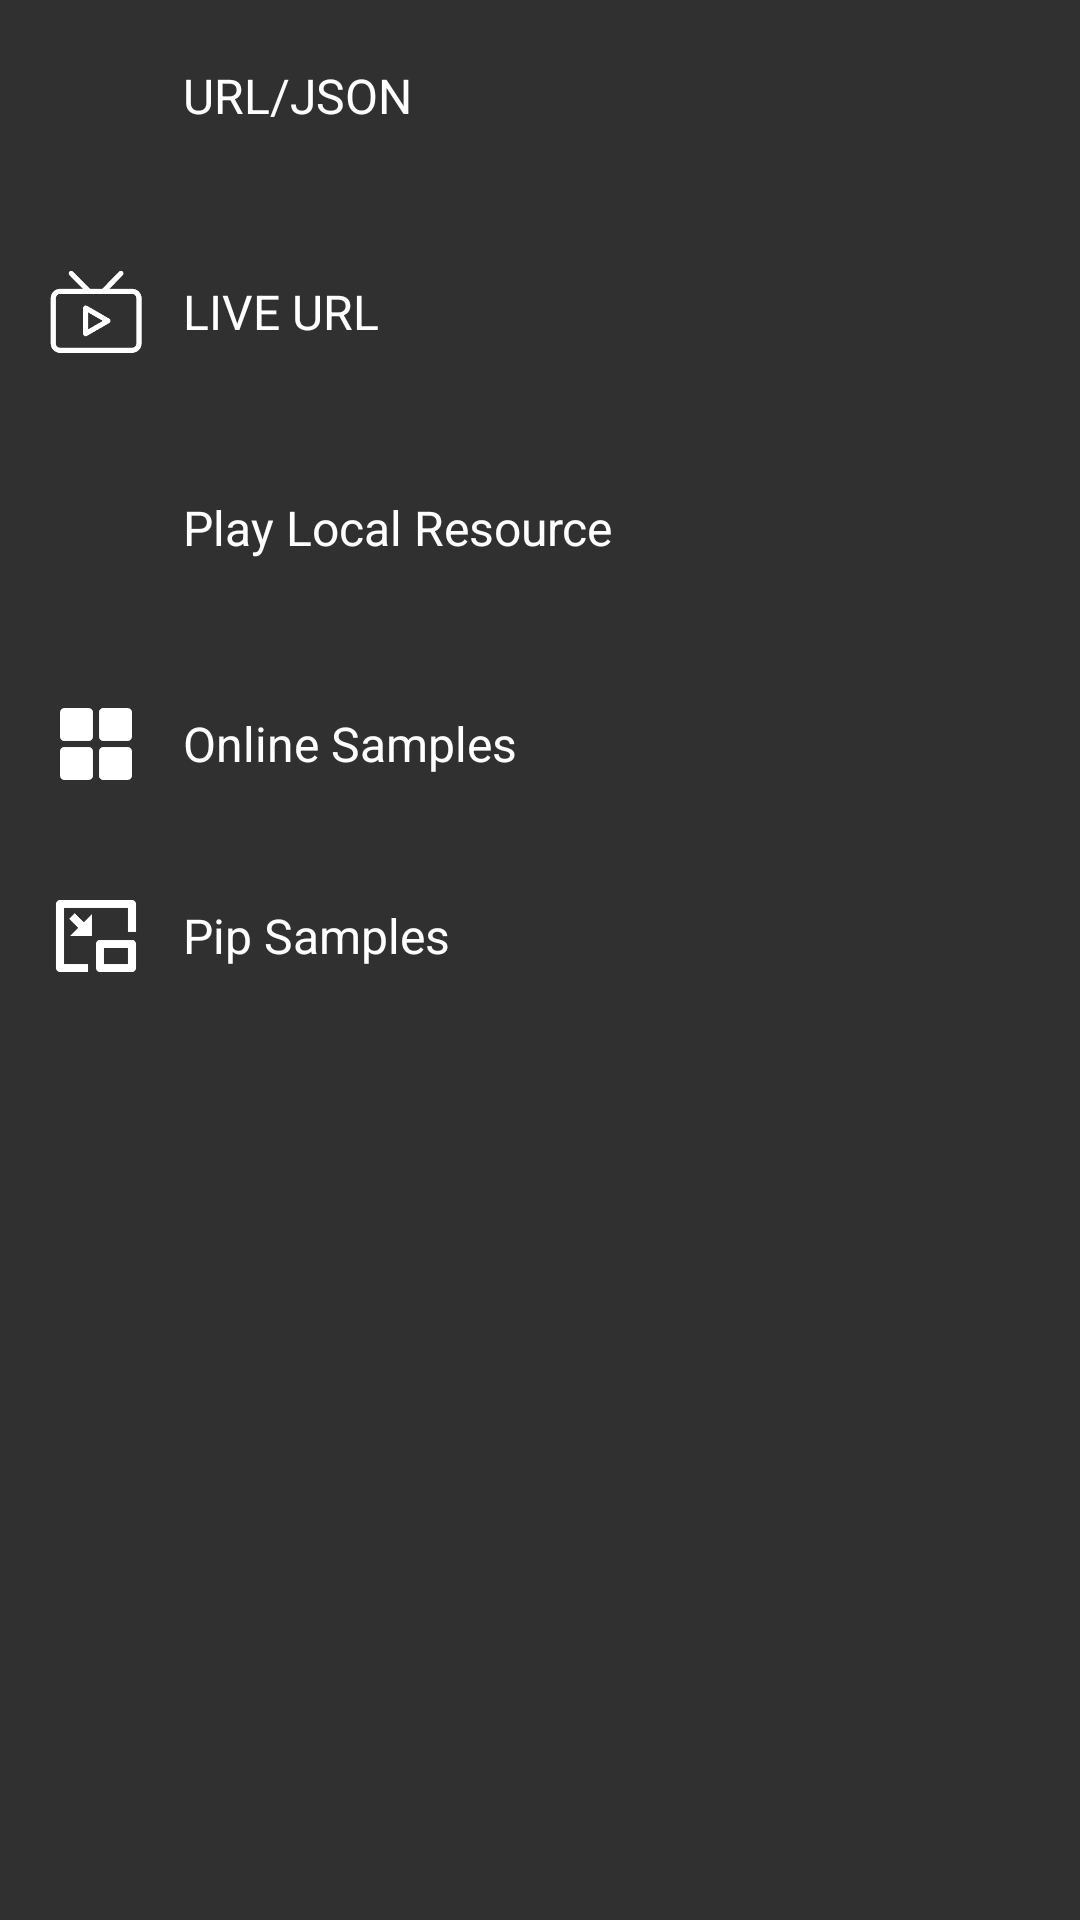

Named icons in this screenshot (1080x1920) and their bounding boxes, (x1, y1, x2, y2):
feed: (60, 708, 132, 780)
window: (56, 900, 136, 972)
